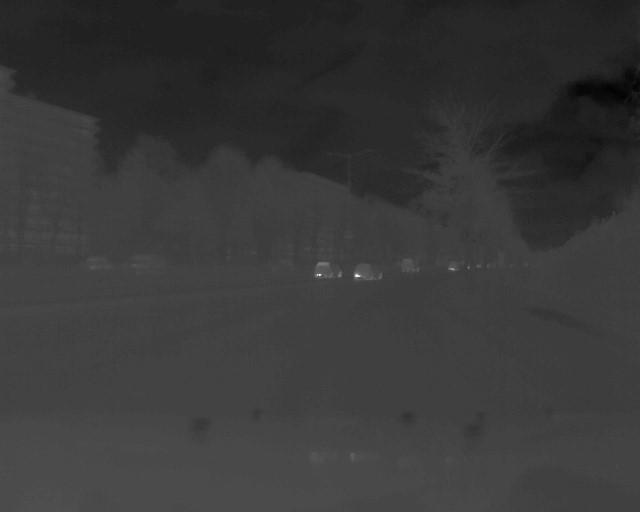car: (354, 263, 390, 283), (316, 262, 344, 280), (403, 257, 431, 275), (91, 252, 111, 275)
